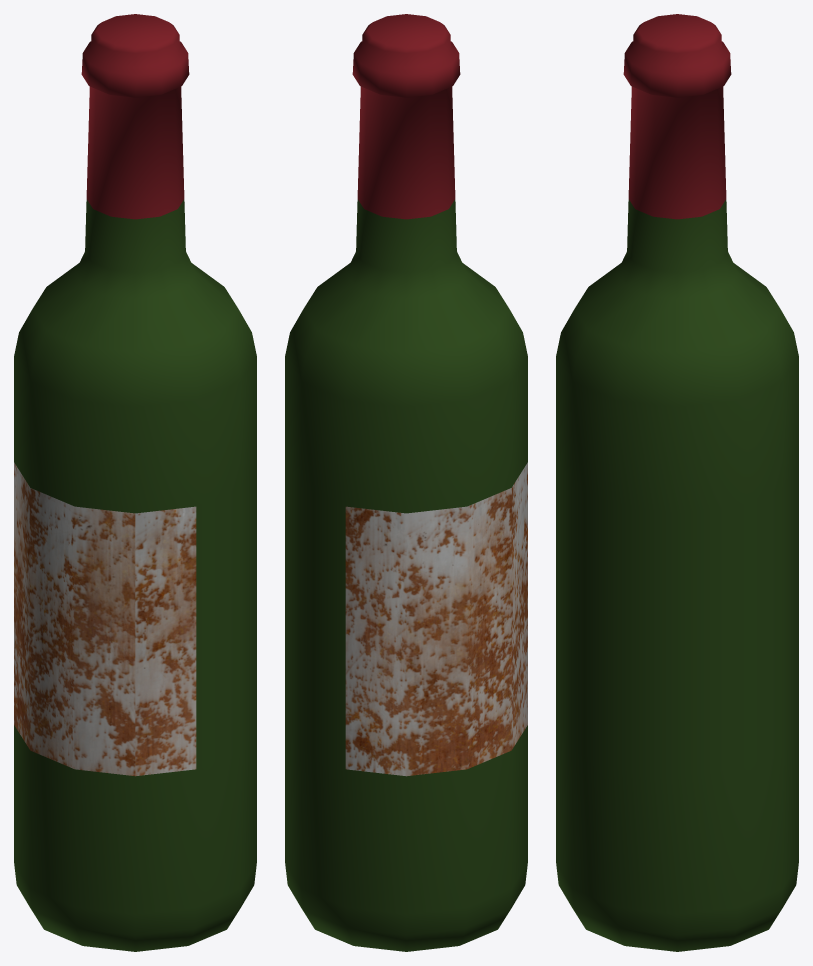
File: 3D_Sibyl202604_Bottle.fbx
The picture shows the model from 3 angles, left to right: view 1: azimuth 30°, elevation 25°; view 2: azimuth 150°, elevation 25°; view 3: azimuth 270°, elevation 25°; orthographic projection.
Visible parts, largest first — view 1: Bottle.001; view 2: Bottle.001; view 3: Bottle.001.
Boxes of the visible parts, x1=… form: Bottle.001: x1=14, y1=14, x2=256, y2=951; Bottle.001: x1=285, y1=14, x2=527, y2=951; Bottle.001: x1=556, y1=14, x2=798, y2=951.
Bounding box in the file's own units: 7.5 × 7.5 × 29.88.
Materials: 3 (1 with a texture image).
